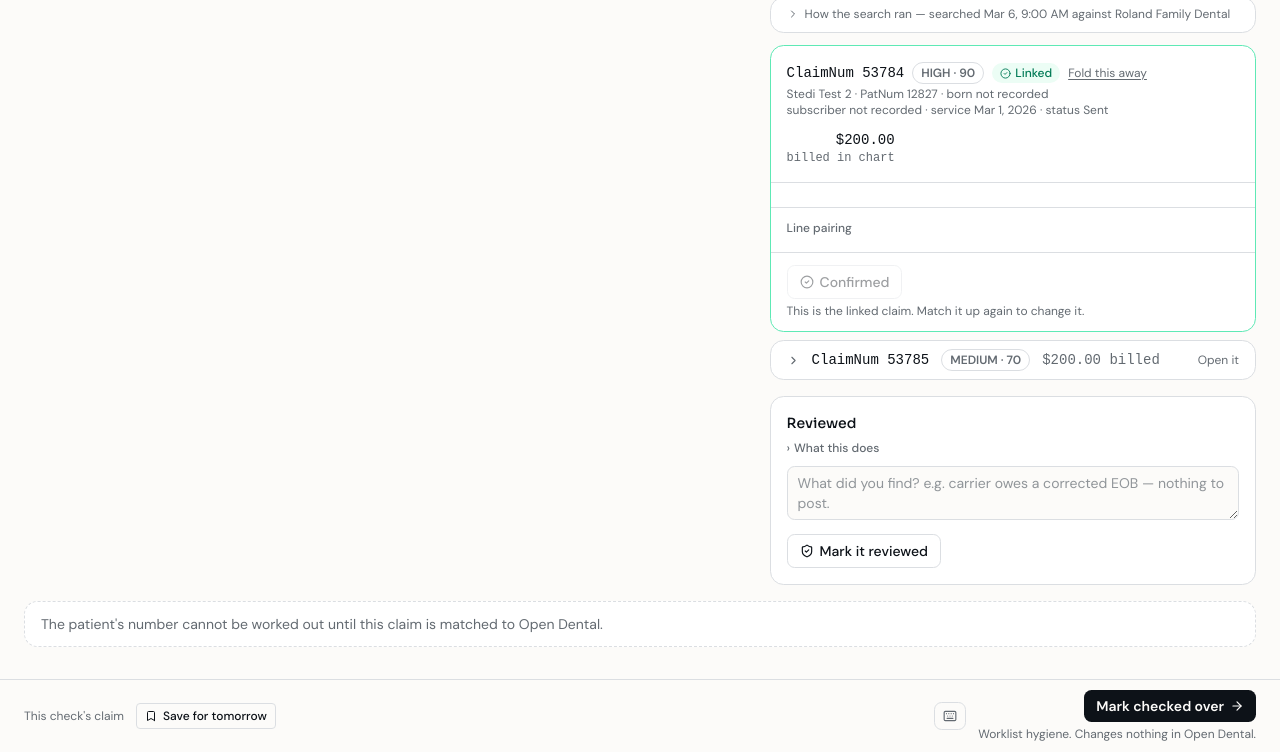
Test: no RCM screen greys a control without saying why › the claim screen, with one candidate confirmed and the other greyed
(page scrolled)
Click the button with test id "candidate-row-53785" at (1013, 360), box [770, 340, 1256, 380]
(page scrolled)
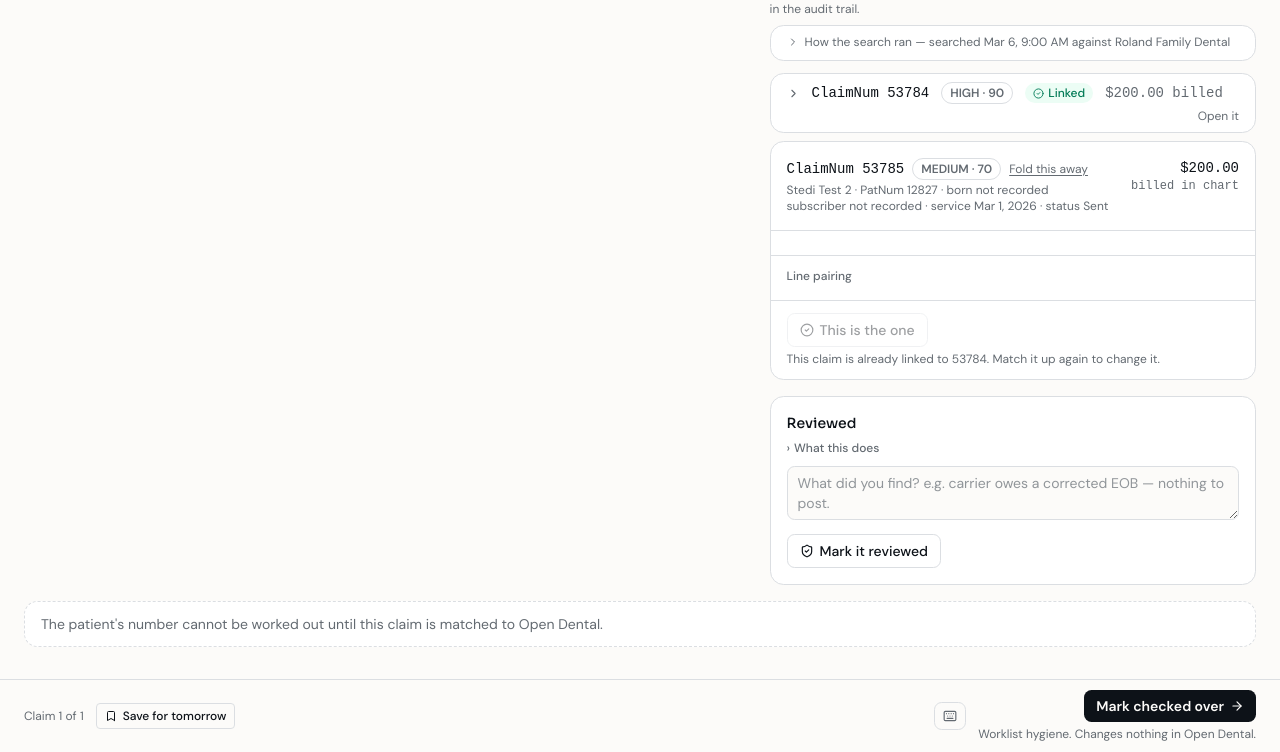
Check: the button with test id "confirm-53785" is disabled, box [787, 313, 928, 347]
Check: the text with test id "confirm-reason-53785" shows "This claim is already linked to 53784", box [787, 351, 1160, 367]
